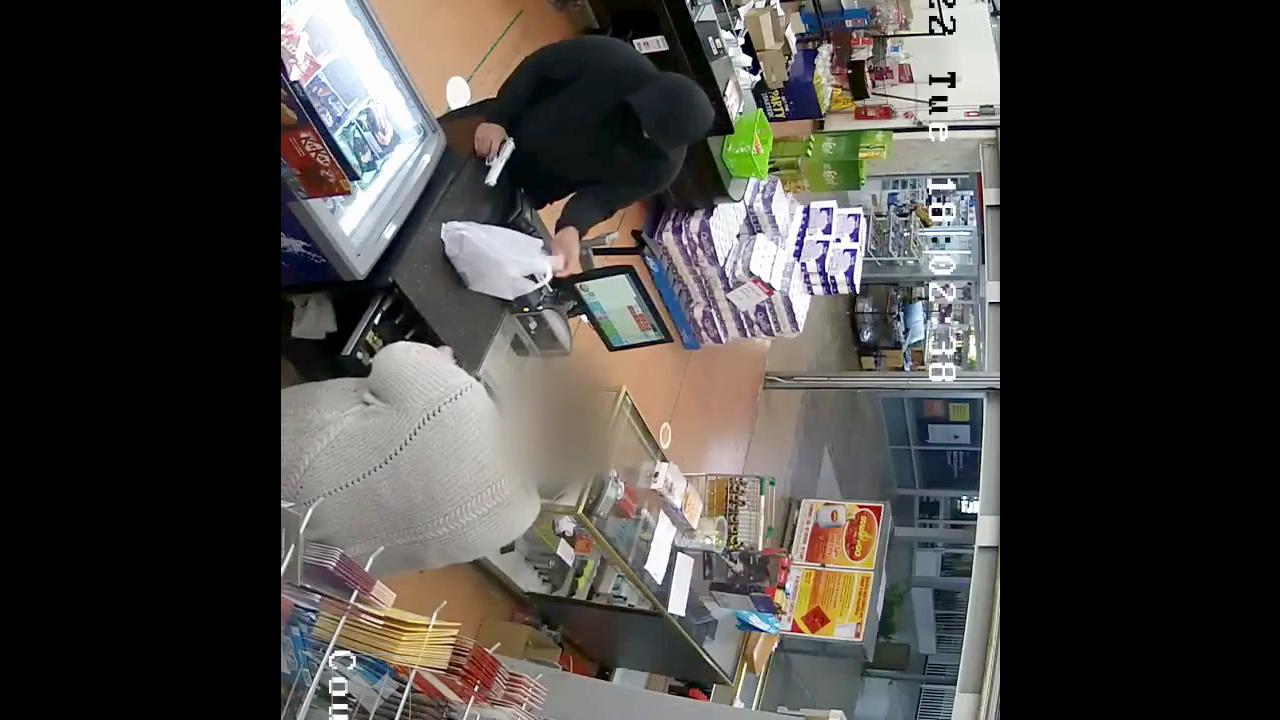gun: (470, 130, 524, 192)
